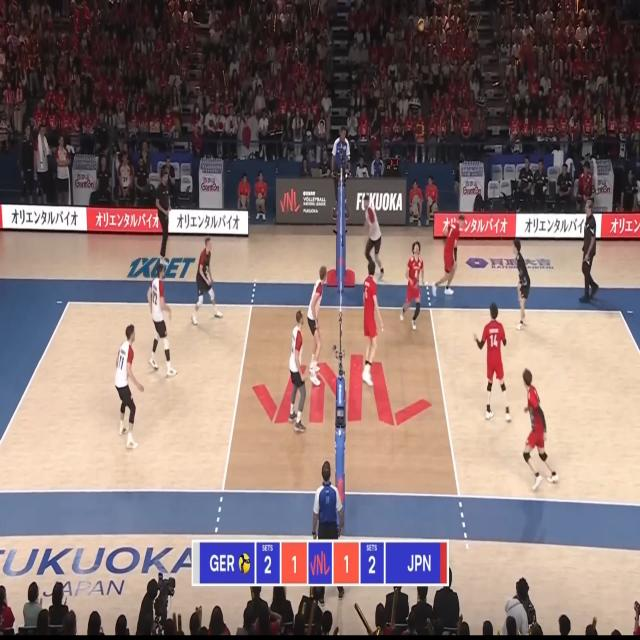ball: (418, 19, 424, 32)
